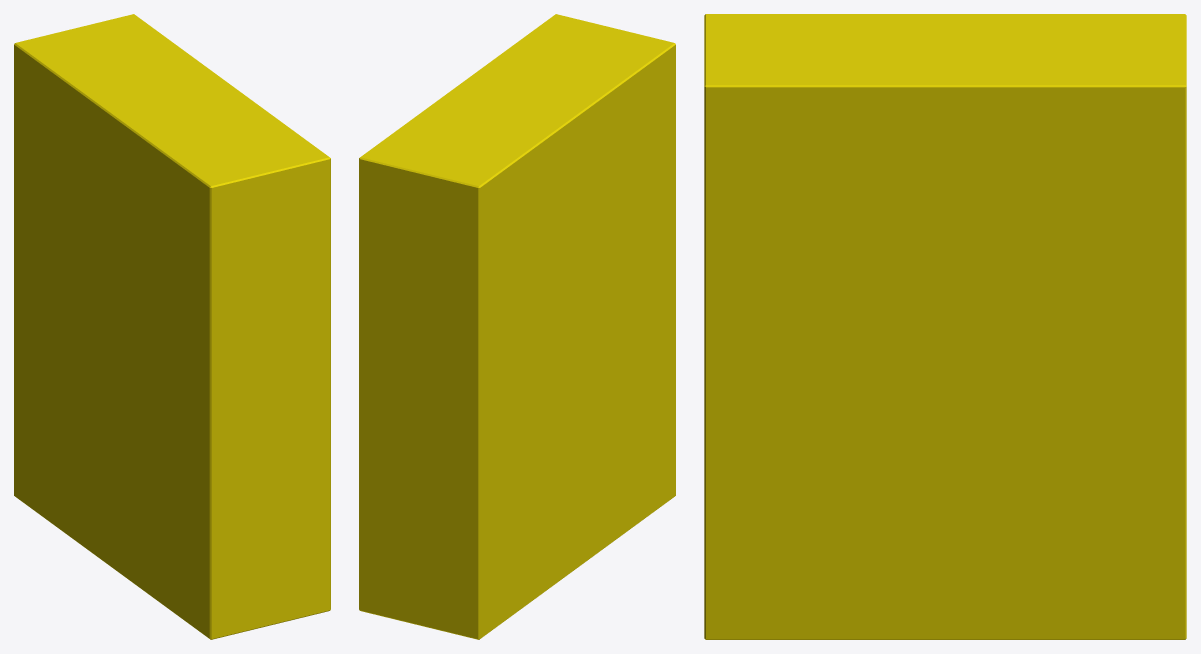
The model's file is Cereals.fbx.
The picture shows the model from 3 angles, left to right: view 1: azimuth 30°, elevation 25°; view 2: azimuth 150°, elevation 25°; view 3: azimuth 270°, elevation 25°; orthographic projection. The views are drawn at different scales.
Visible parts, largest first — view 1: Cereals; view 2: Cereals; view 3: Cereals.
Part boxes in pixels (bbox=[...]): Cereals: bbox=[14, 14, 330, 639]; Cereals: bbox=[359, 14, 675, 639]; Cereals: bbox=[704, 14, 1186, 639].
Bounding box in the file's own units: 53.46 × 191 × 151.
